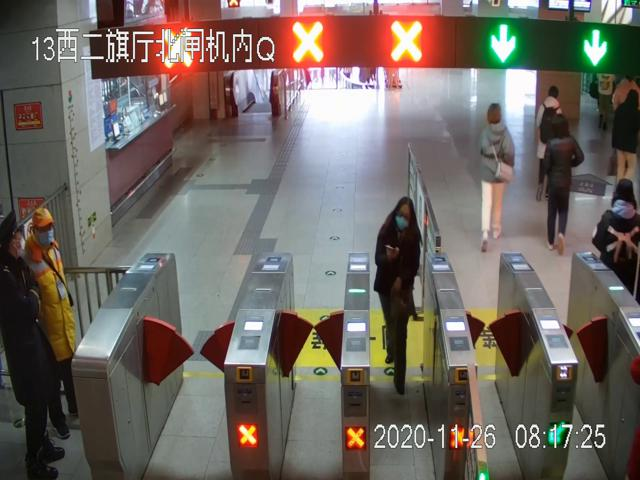person: (3, 208, 66, 480), (21, 208, 82, 440), (373, 194, 424, 394), (542, 112, 584, 255), (479, 102, 515, 248)
